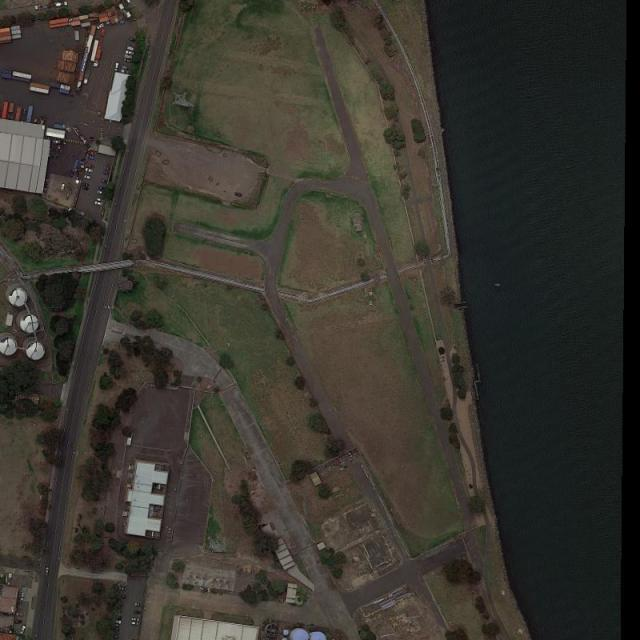vehicle: (124, 50, 136, 56), (124, 45, 135, 51), (19, 626, 26, 635), (85, 168, 95, 174), (123, 58, 132, 64), (120, 69, 130, 74), (124, 54, 134, 59), (82, 182, 90, 188), (84, 175, 92, 181), (88, 155, 96, 161), (61, 182, 66, 191), (89, 150, 98, 155), (102, 165, 111, 170), (94, 202, 104, 206), (101, 178, 109, 183), (114, 62, 118, 72), (97, 191, 106, 195), (96, 198, 105, 202), (118, 587, 127, 591), (134, 602, 143, 606), (134, 611, 143, 615), (102, 170, 109, 175), (46, 566, 49, 576), (16, 613, 26, 616), (22, 592, 25, 601), (132, 618, 140, 621), (132, 622, 140, 625)
